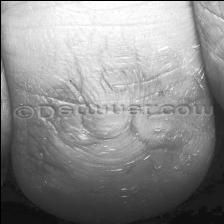Non-Cancerous Skin Condition: (31, 120, 192, 198)
